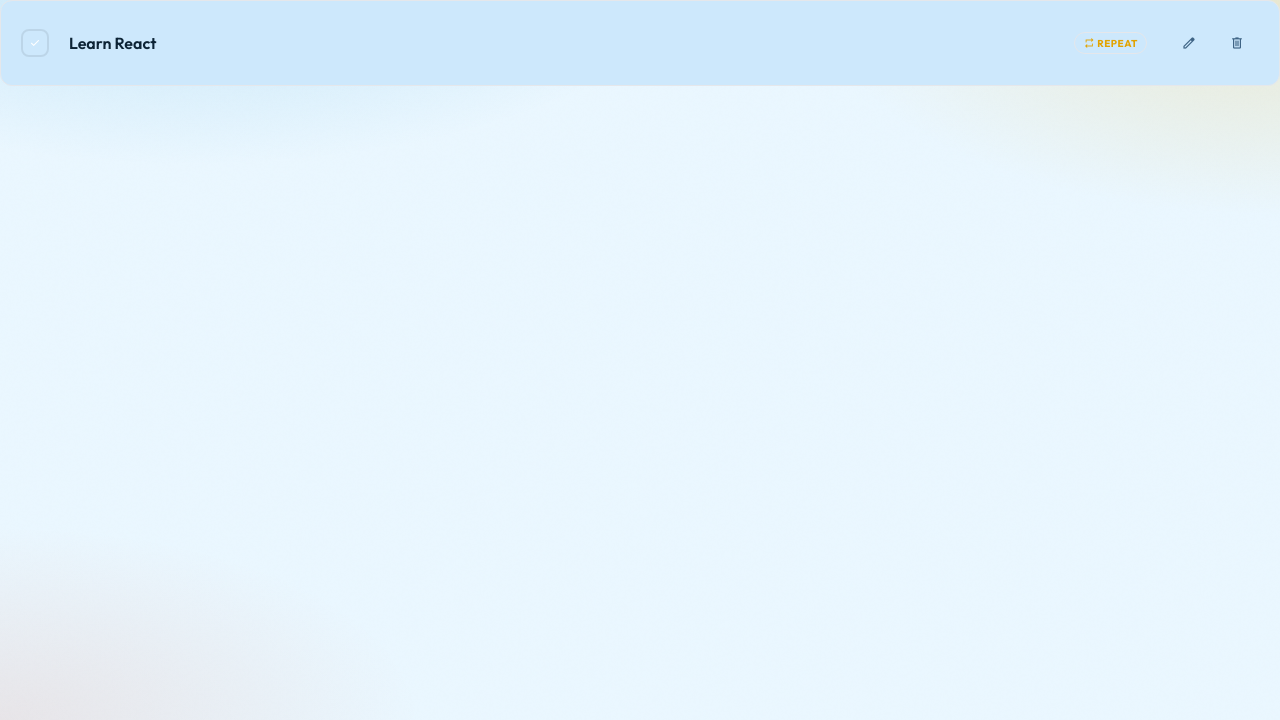
delete flow › shows recurring warning in dialog for recurring task
The image size is (1280, 720).
Click the button named "Delete task".
click(1237, 43)  # box [1215,21,1259,65]
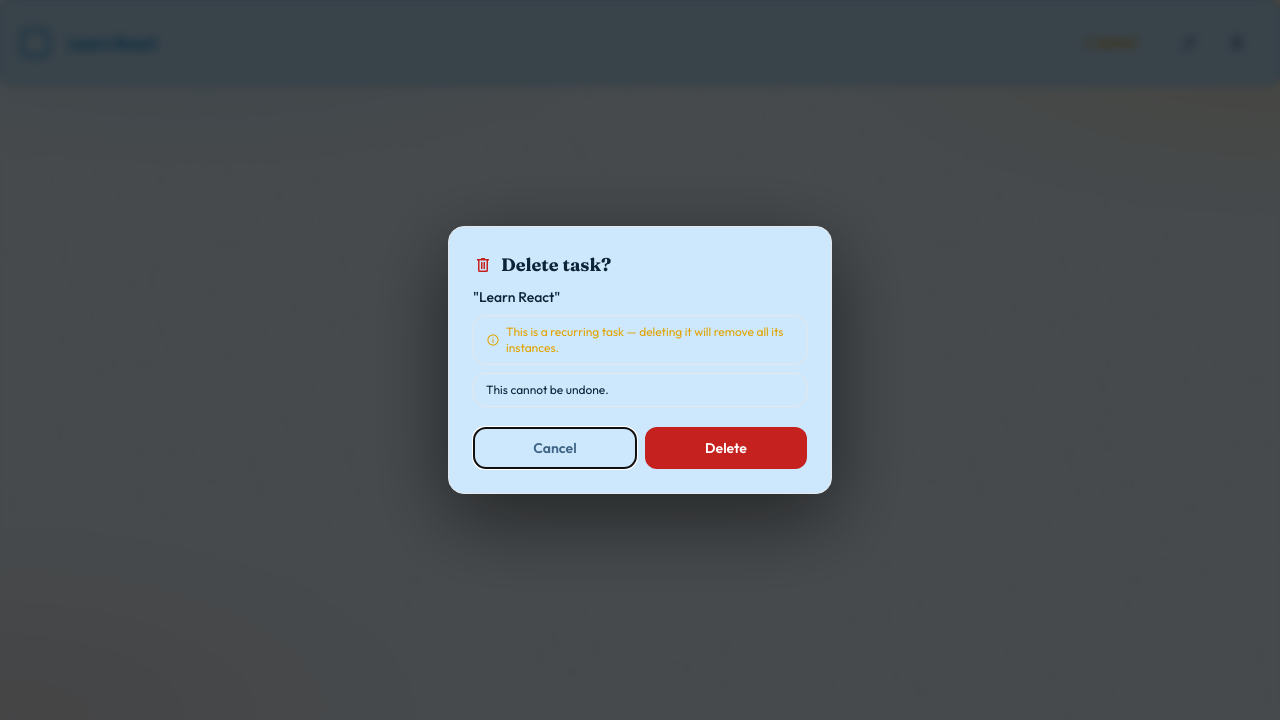
Expected: the text "This is a recurring task" is shown, [506,324,783,355]
